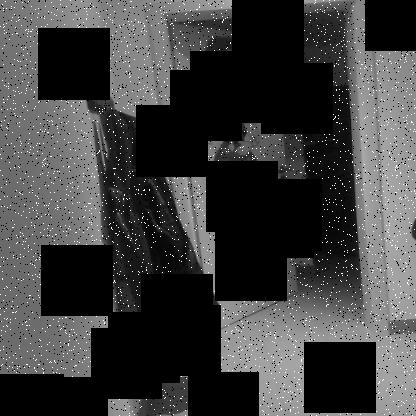Porte: (140, 0, 392, 351)
